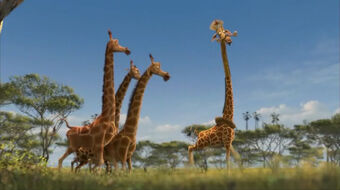Jirafa: (207, 16, 250, 58), (146, 50, 183, 88), (99, 26, 135, 63), (126, 58, 144, 86)
